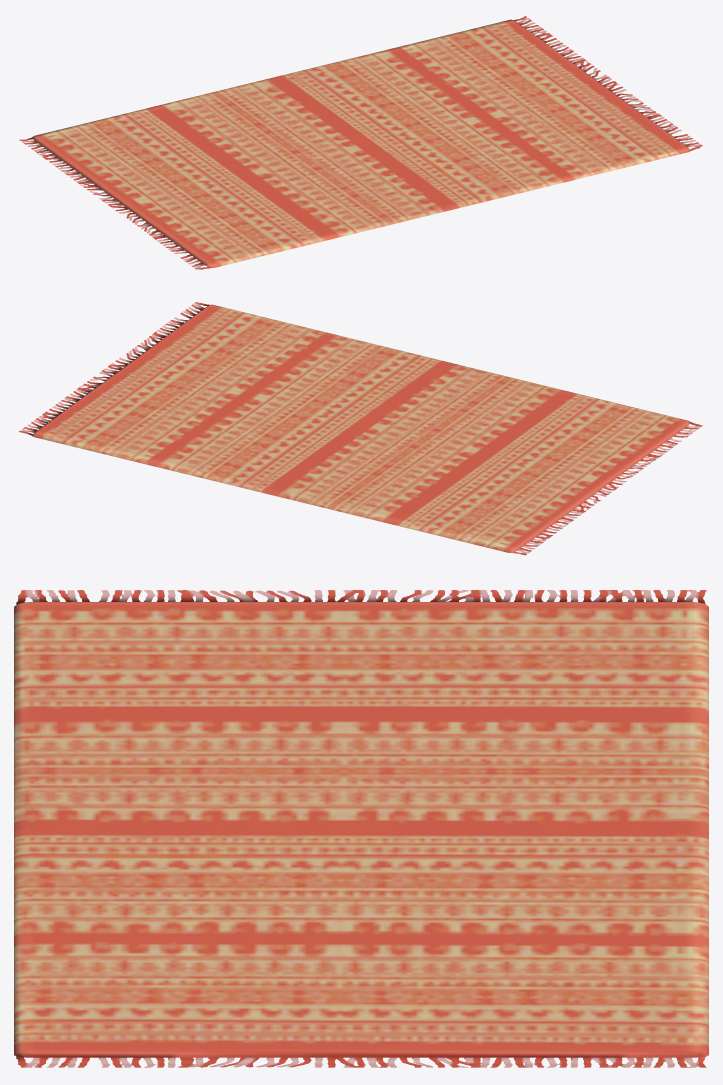
The model's file is SM_Carpet_04.fbx.
3 renders of one model, top to bottom at view 1: azimuth 30°, elevation 25°; view 2: azimuth 150°, elevation 25°; view 3: azimuth 270°, elevation 25°, orthographic. The views are drawn at different scales.
Parts seen in each view (by area): view 1: SM_Carpet_04_LOD0; view 2: SM_Carpet_04_LOD0; view 3: SM_Carpet_04_LOD0.
Part boxes in pixels (<box>): SM_Carpet_04_LOD0: <box>19,16,702,269</box>; SM_Carpet_04_LOD0: <box>19,302,702,555</box>; SM_Carpet_04_LOD0: <box>14,590,708,1067</box>.
Size of the model in its own units: 205 by 124 by 0.6961.
Materials: 1 (1 with a texture image).
